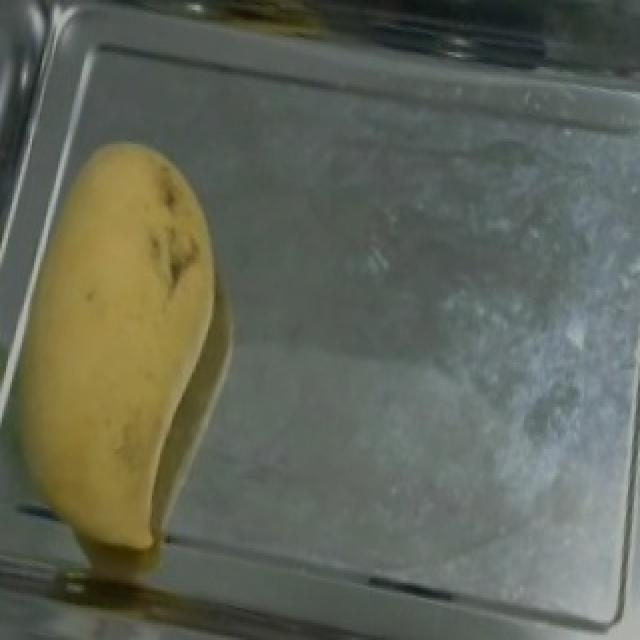fruit: (2, 109, 284, 506)
